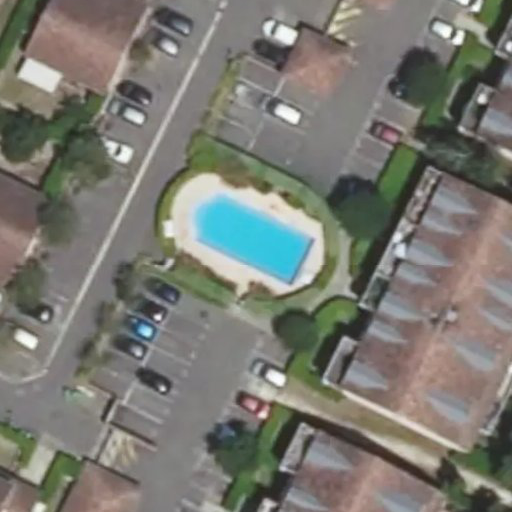pool: (177, 230, 323, 244)
